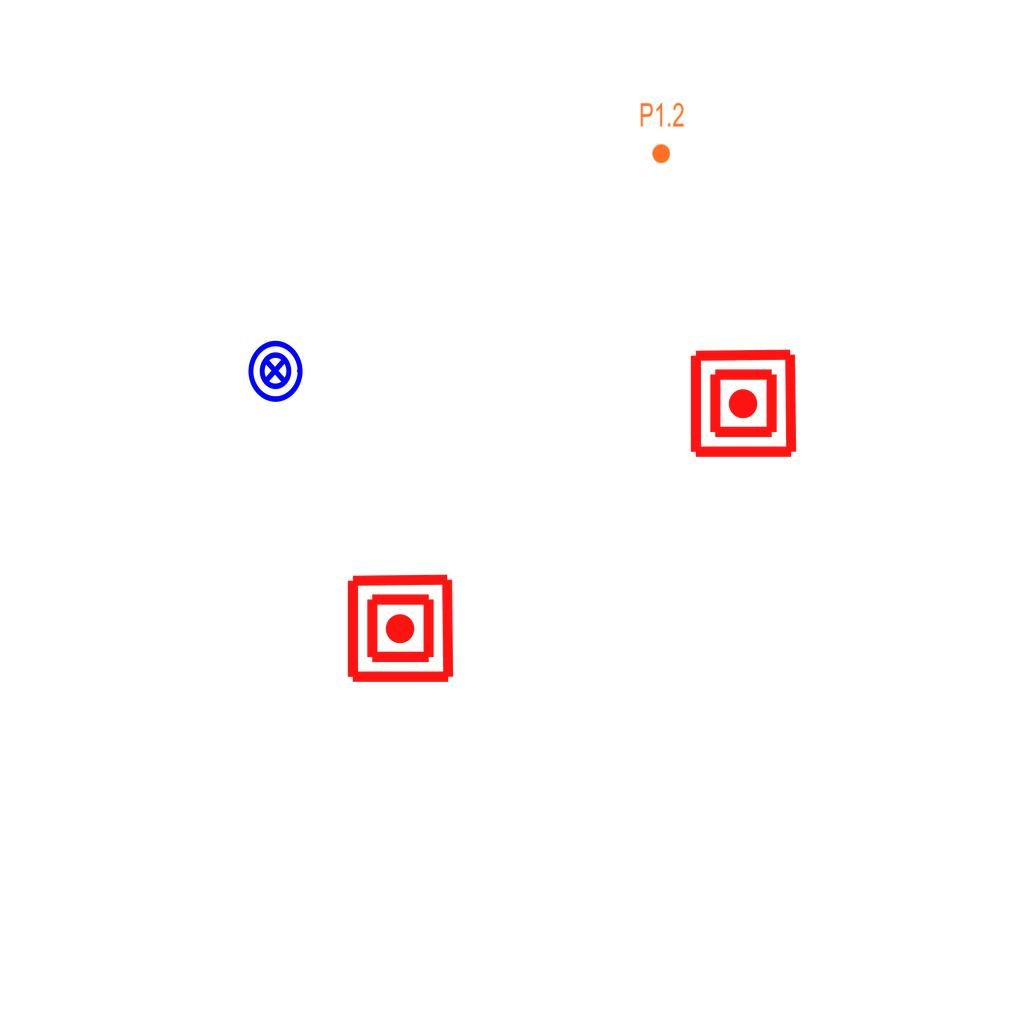Downlight_LED_Einbauleuchten_Flur: (639, 101, 685, 165)
NAM-Nichtautomatischer_Melder: (344, 572, 457, 685), (687, 347, 800, 460)
Taster_beleuchtet: (242, 338, 308, 404)
